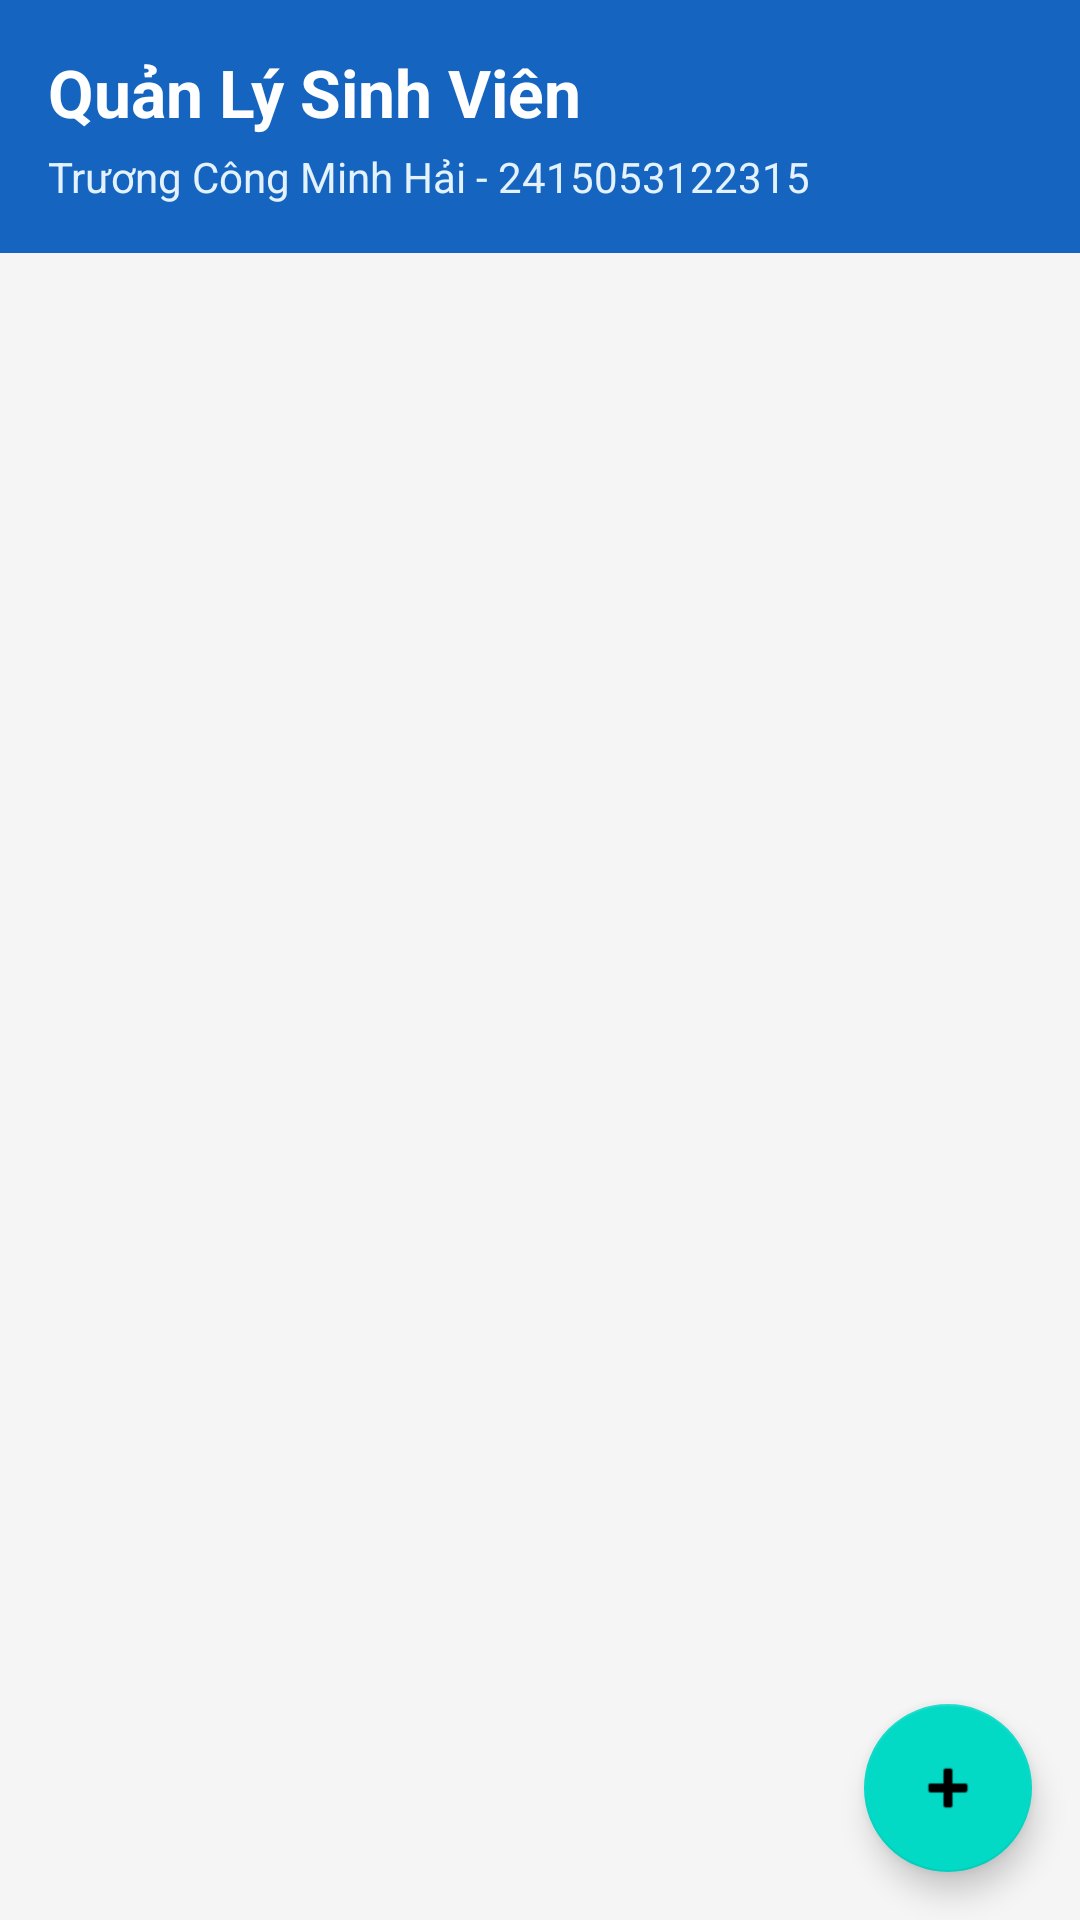

Icon bounding boxes for this 1080 x 1920 phone screenshot, format (x1, y1, x2, y2):
Thêm sinh viên: (864, 1704, 1032, 1872)
